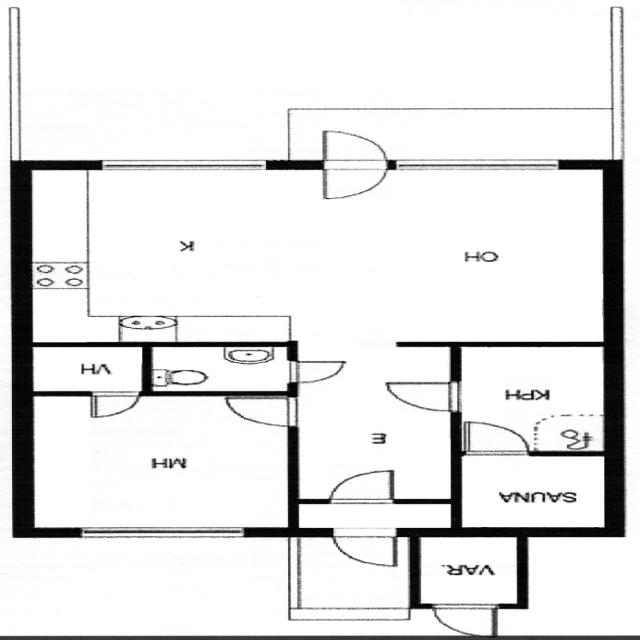door: (150, 344, 300, 395), (311, 128, 393, 203), (378, 376, 474, 415), (325, 527, 405, 571), (215, 393, 306, 429), (321, 466, 402, 505), (457, 418, 535, 457), (426, 603, 502, 637), (277, 355, 356, 387), (83, 389, 146, 420)
window: (80, 151, 281, 177), (385, 152, 579, 178), (63, 521, 260, 546)
zone: (17, 166, 612, 342), (28, 391, 295, 530), (456, 344, 610, 455), (458, 452, 614, 530), (416, 532, 522, 608), (148, 344, 294, 394), (24, 345, 151, 393)
